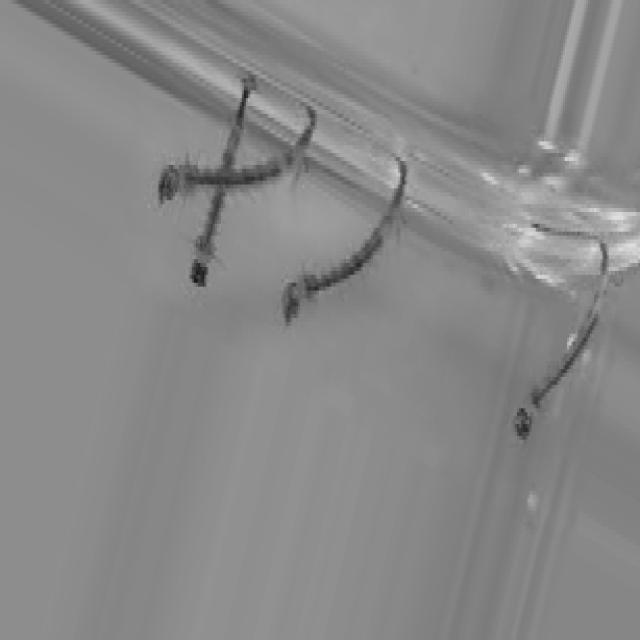larvas: (273, 162, 415, 346), (506, 236, 625, 453), (185, 74, 263, 293), (156, 140, 307, 211)
